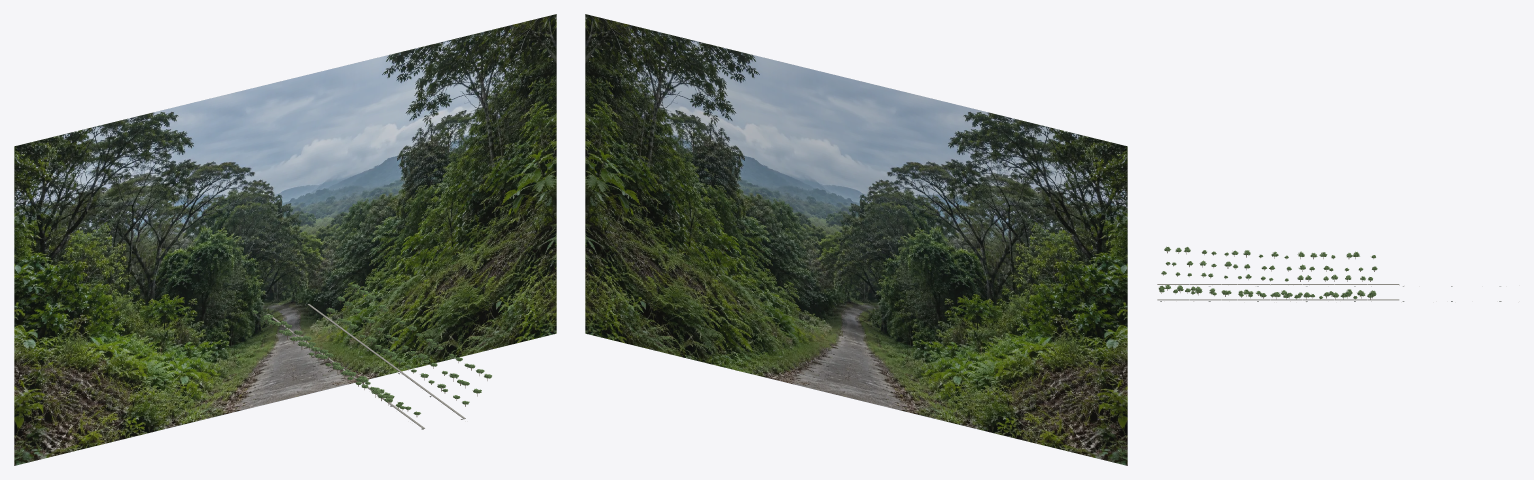
The model's file is portal.glb.
3 renders of one model, left to right at view 1: azimuth 30°, elevation 25°; view 2: azimuth 150°, elevation 25°; view 3: azimuth 270°, elevation 25°, orthographic. The views are drawn at different scales.
Parts seen in each view (by area): view 1: portal detail portal backdrop, portal detail foliage, portal detail kerb; view 2: portal detail portal backdrop; view 3: portal detail foliage, portal detail kerb.
Boxes of the visible parts, <box> form: portal detail portal backdrop: <box>14,14,556,465</box>; portal detail foliage: <box>252,284,491,415</box>; portal detail kerb: <box>266,304,465,429</box>; portal detail portal backdrop: <box>585,14,1127,465</box>; portal detail foliage: <box>1158,246,1377,298</box>; portal detail kerb: <box>1157,284,1500,301</box>.
Bounding box in the file's own units: 120 × 67.54 × 90.
Materials: 7 (1 with a texture image).
